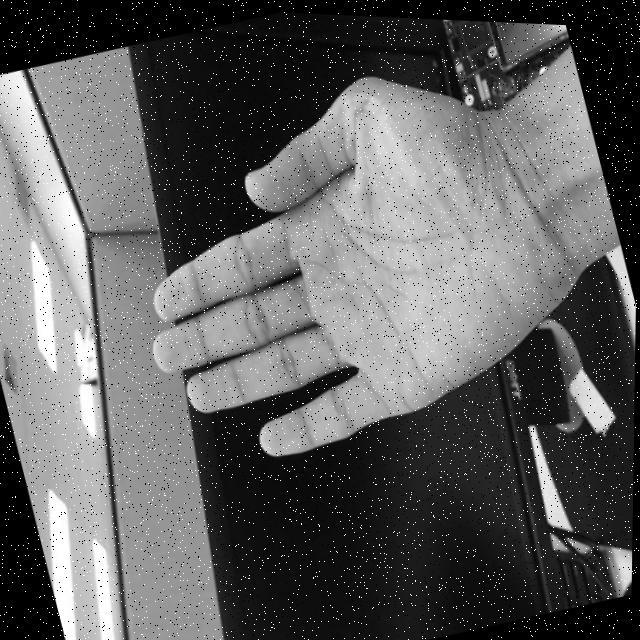no-gloves: (87, 29, 584, 497)
